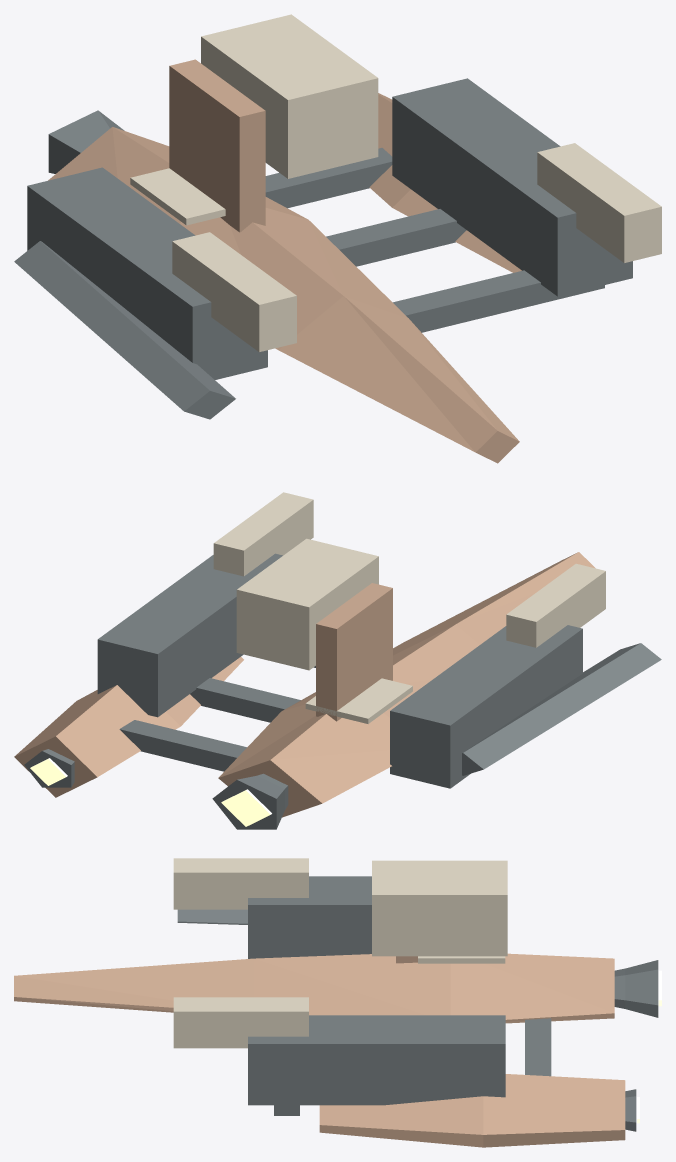
3 renders of one model, top to bottom at view 1: azimuth 30°, elevation 25°; view 2: azimuth 150°, elevation 25°; view 3: azimuth 270°, elevation 25°, orthographic. The views are drawn at different scales.
Size of the model in its own units: 14.19 by 6.36 by 19.11.
